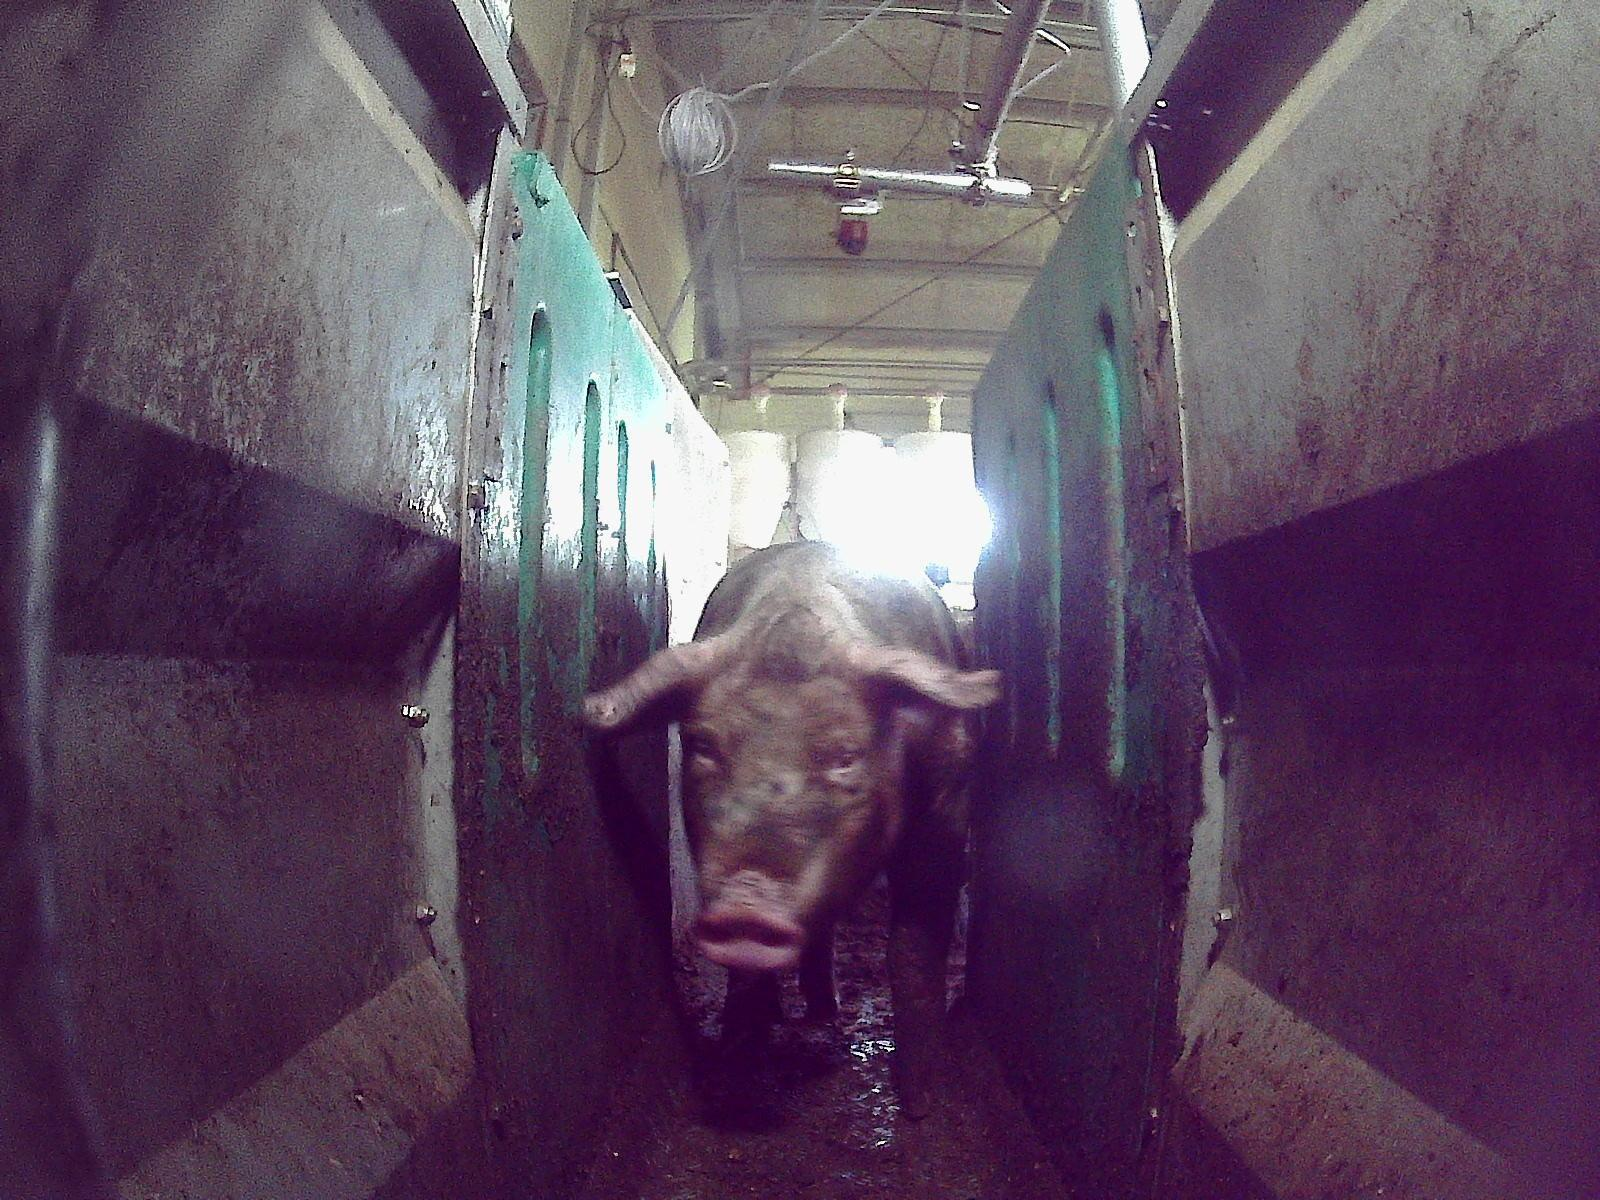Face: (674, 648, 892, 972)
